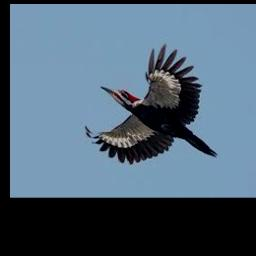Woodpecker: (85, 43, 218, 164)
